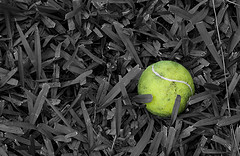tennis ball: (136, 55, 198, 120)
